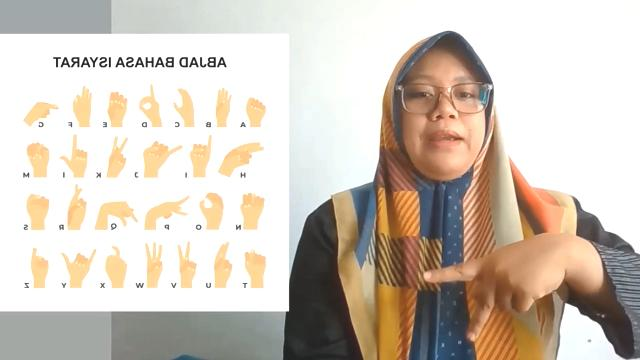P: (422, 225, 568, 345)
